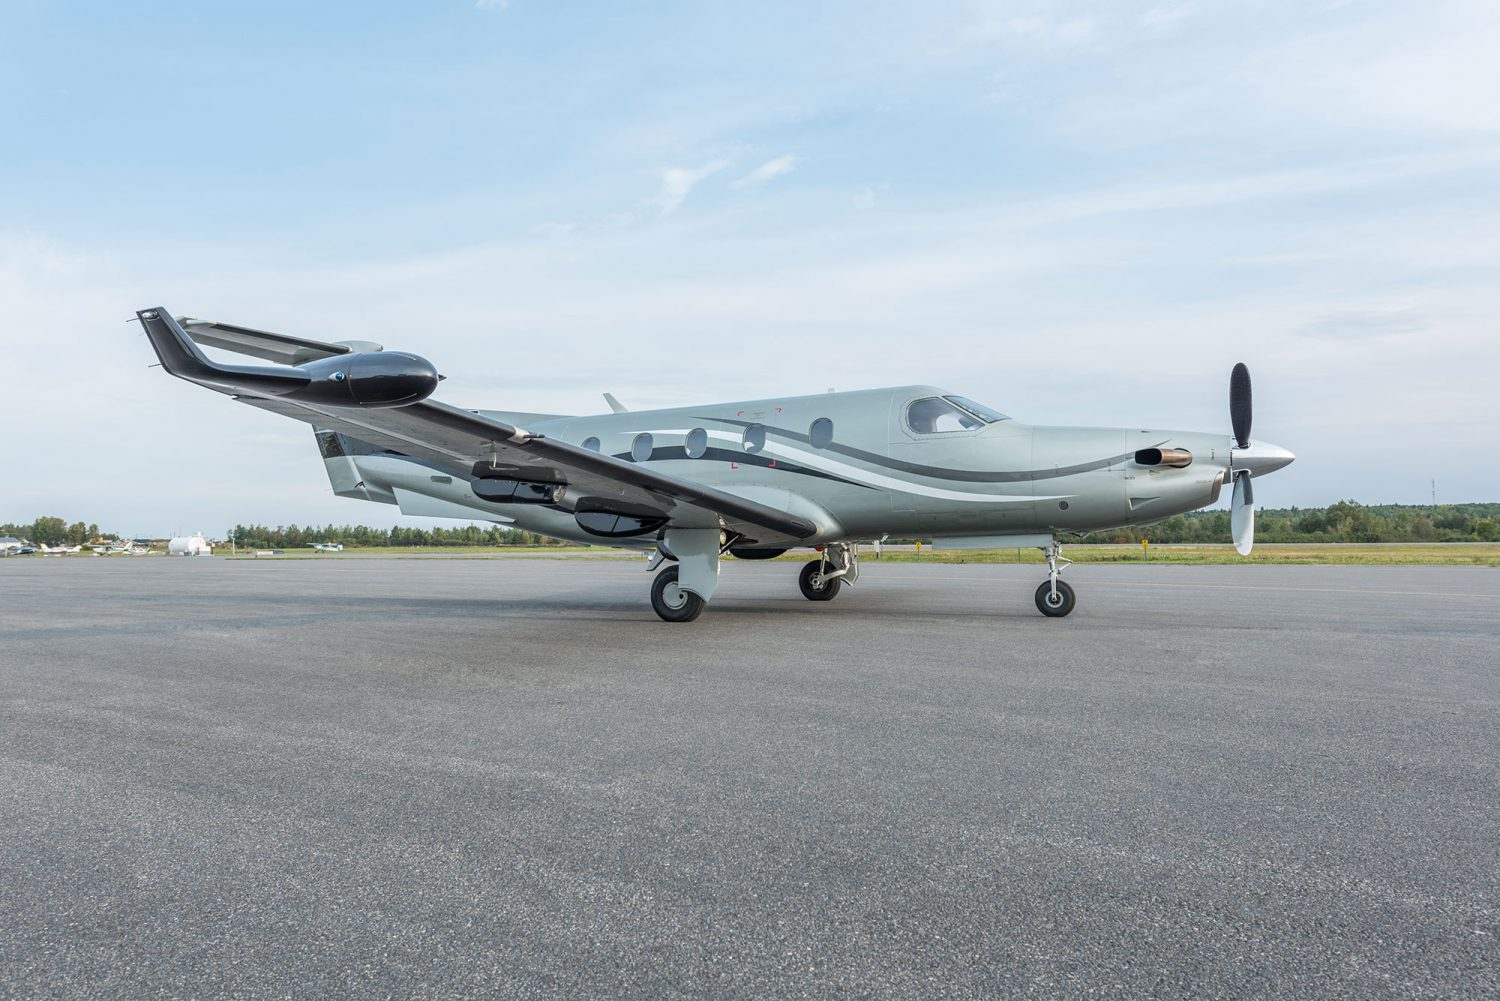Aeronef_commercial: (116, 285, 1324, 656)
